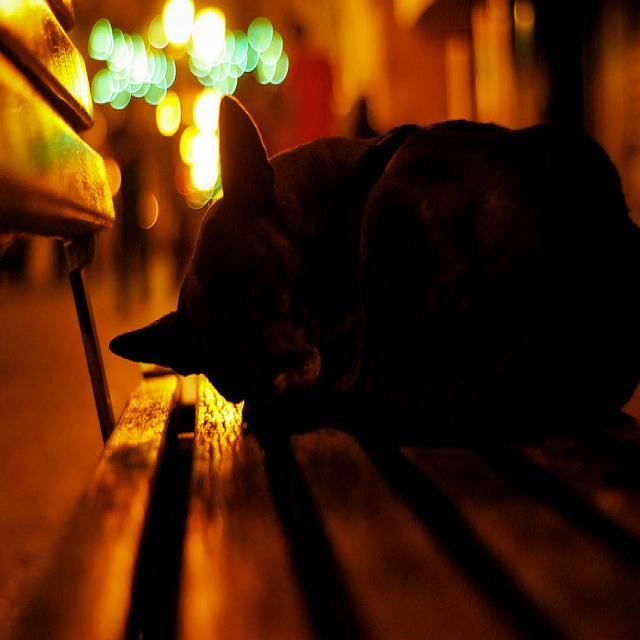Dog: (99, 95, 636, 561)
